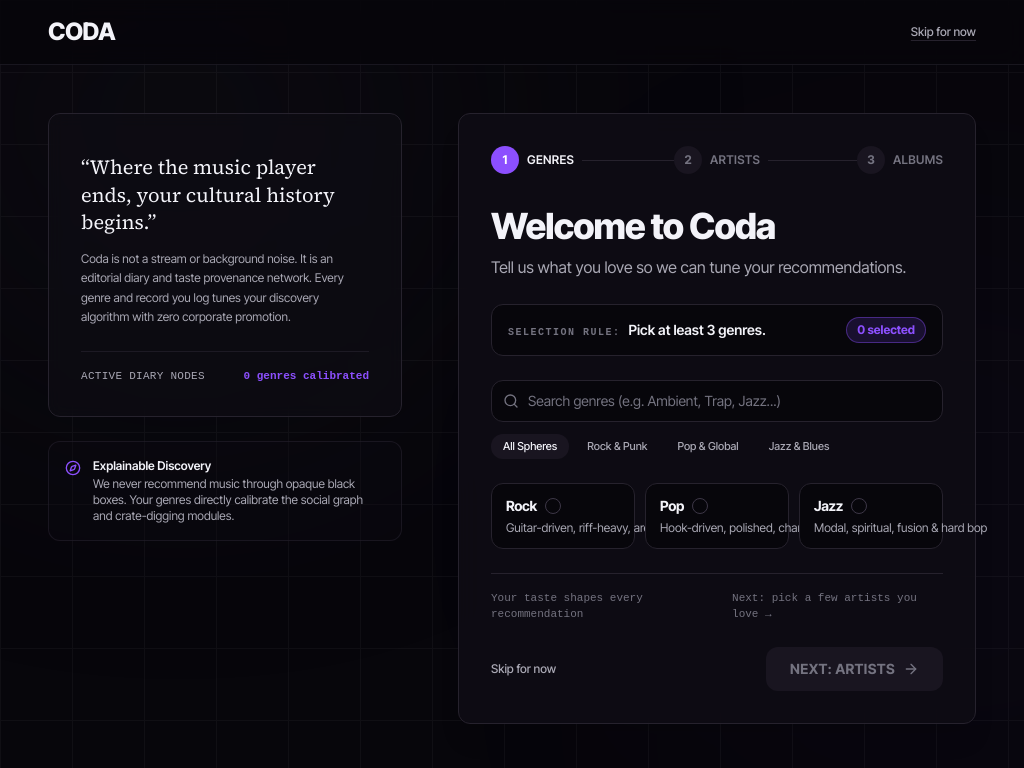
OnboardingWizard › narrows the genre grid with the category filter
This screenshot has width=1024, height=768.
Expected: the text "Rock" is shown, left=506, top=496, right=537, bottom=516
Expected: the text "Pop" is shown, left=660, top=496, right=684, bottom=516
Note: Filtering to Jazz's category hides the other genres.
What coordinates should you click on to do the following:
click the button "Jazz & Blues"
I would click on:
 (799, 446)
Its box is left=757, top=434, right=841, bottom=458.
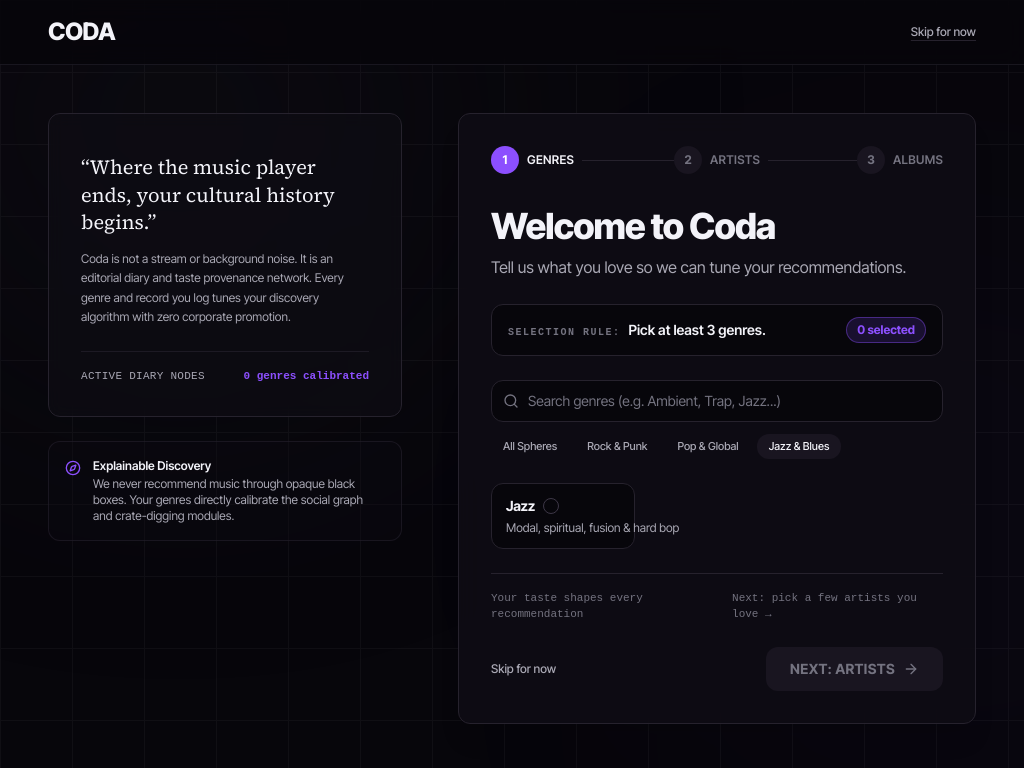
Expected: the text "Jazz" is shown, left=506, top=496, right=535, bottom=516
Note: Clicking the active pill again clears the filter.
What coordinates should you click on to do the following:
click the button "Jazz & Blues"
I would click on:
 (799, 446)
Its box is left=757, top=434, right=841, bottom=458.
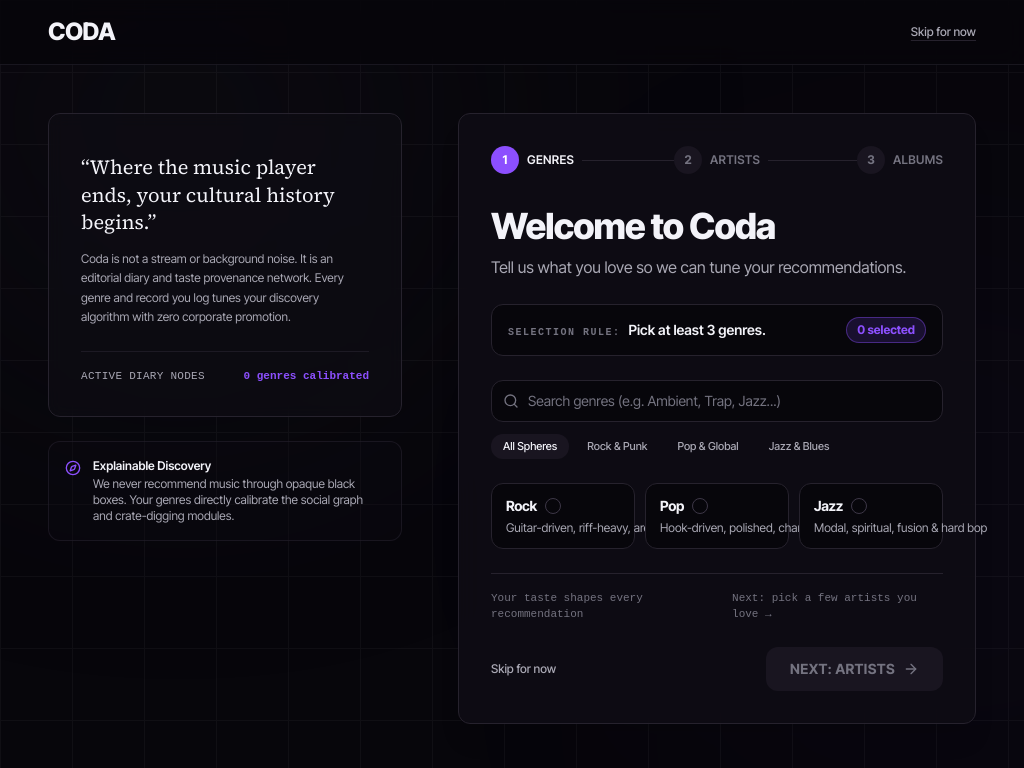
Expected: the text "Jazz" is shown, left=814, top=496, right=843, bottom=516
Now the text "Rock" is shown, box left=506, top=496, right=537, bottom=516
Now the text "Pop" is shown, box left=660, top=496, right=684, bottom=516
